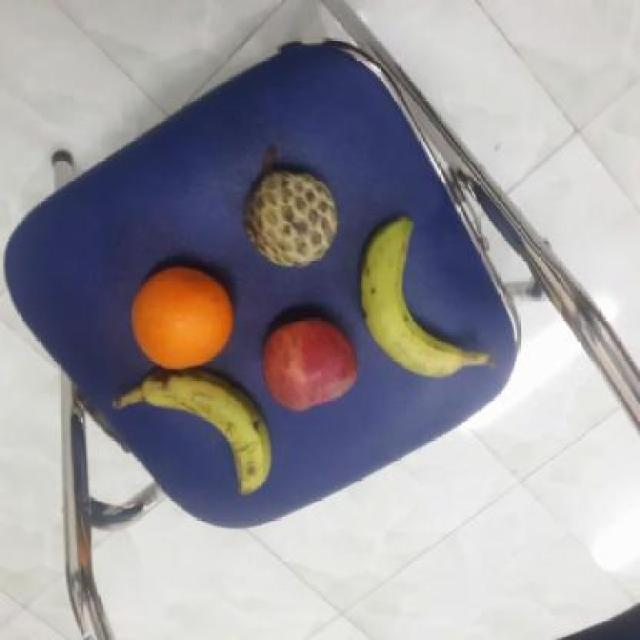apple: (259, 313, 364, 413)
banana: (352, 214, 479, 380), (138, 366, 278, 500)
oren: (126, 260, 237, 375)
sugar apple: (239, 169, 344, 271)
